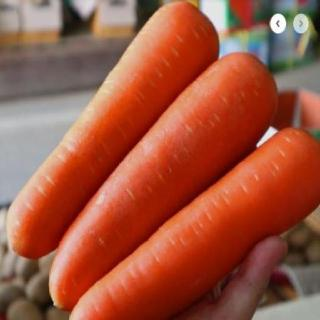carrot: (45, 53, 283, 310), (6, 0, 220, 260), (66, 125, 317, 320)
